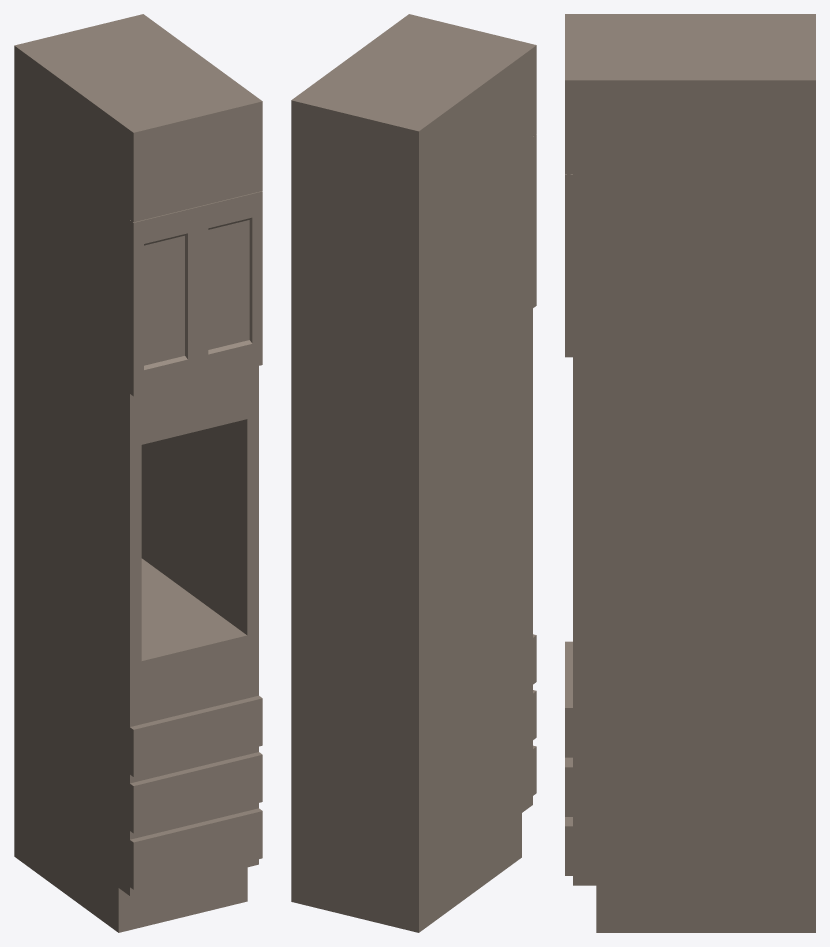
The model's file is Oven-Cabinet-24-Deep_std_001_W15in_1D.glb.
3 views of the same model, side by side, from view 1: azimuth 30°, elevation 25°; view 2: azimuth 150°, elevation 25°; view 3: azimuth 270°, elevation 25° (orthographic). The views are drawn at different scales.
Parts seen in each view (by area): view 1: Oven-Cabinet-24-Deep.std.001_W15in_1D; view 2: Oven-Cabinet-24-Deep.std.001_W15in_1D; view 3: Oven-Cabinet-24-Deep.std.001_W15in_1D.
Boxes of the visible parts, bbox=[...] form: Oven-Cabinet-24-Deep.std.001_W15in_1D: bbox=[14, 14, 262, 932]; Oven-Cabinet-24-Deep.std.001_W15in_1D: bbox=[291, 14, 536, 932]; Oven-Cabinet-24-Deep.std.001_W15in_1D: bbox=[565, 14, 815, 932].
Size of the model in its own units: 0.381 by 2.29 by 0.6096.
